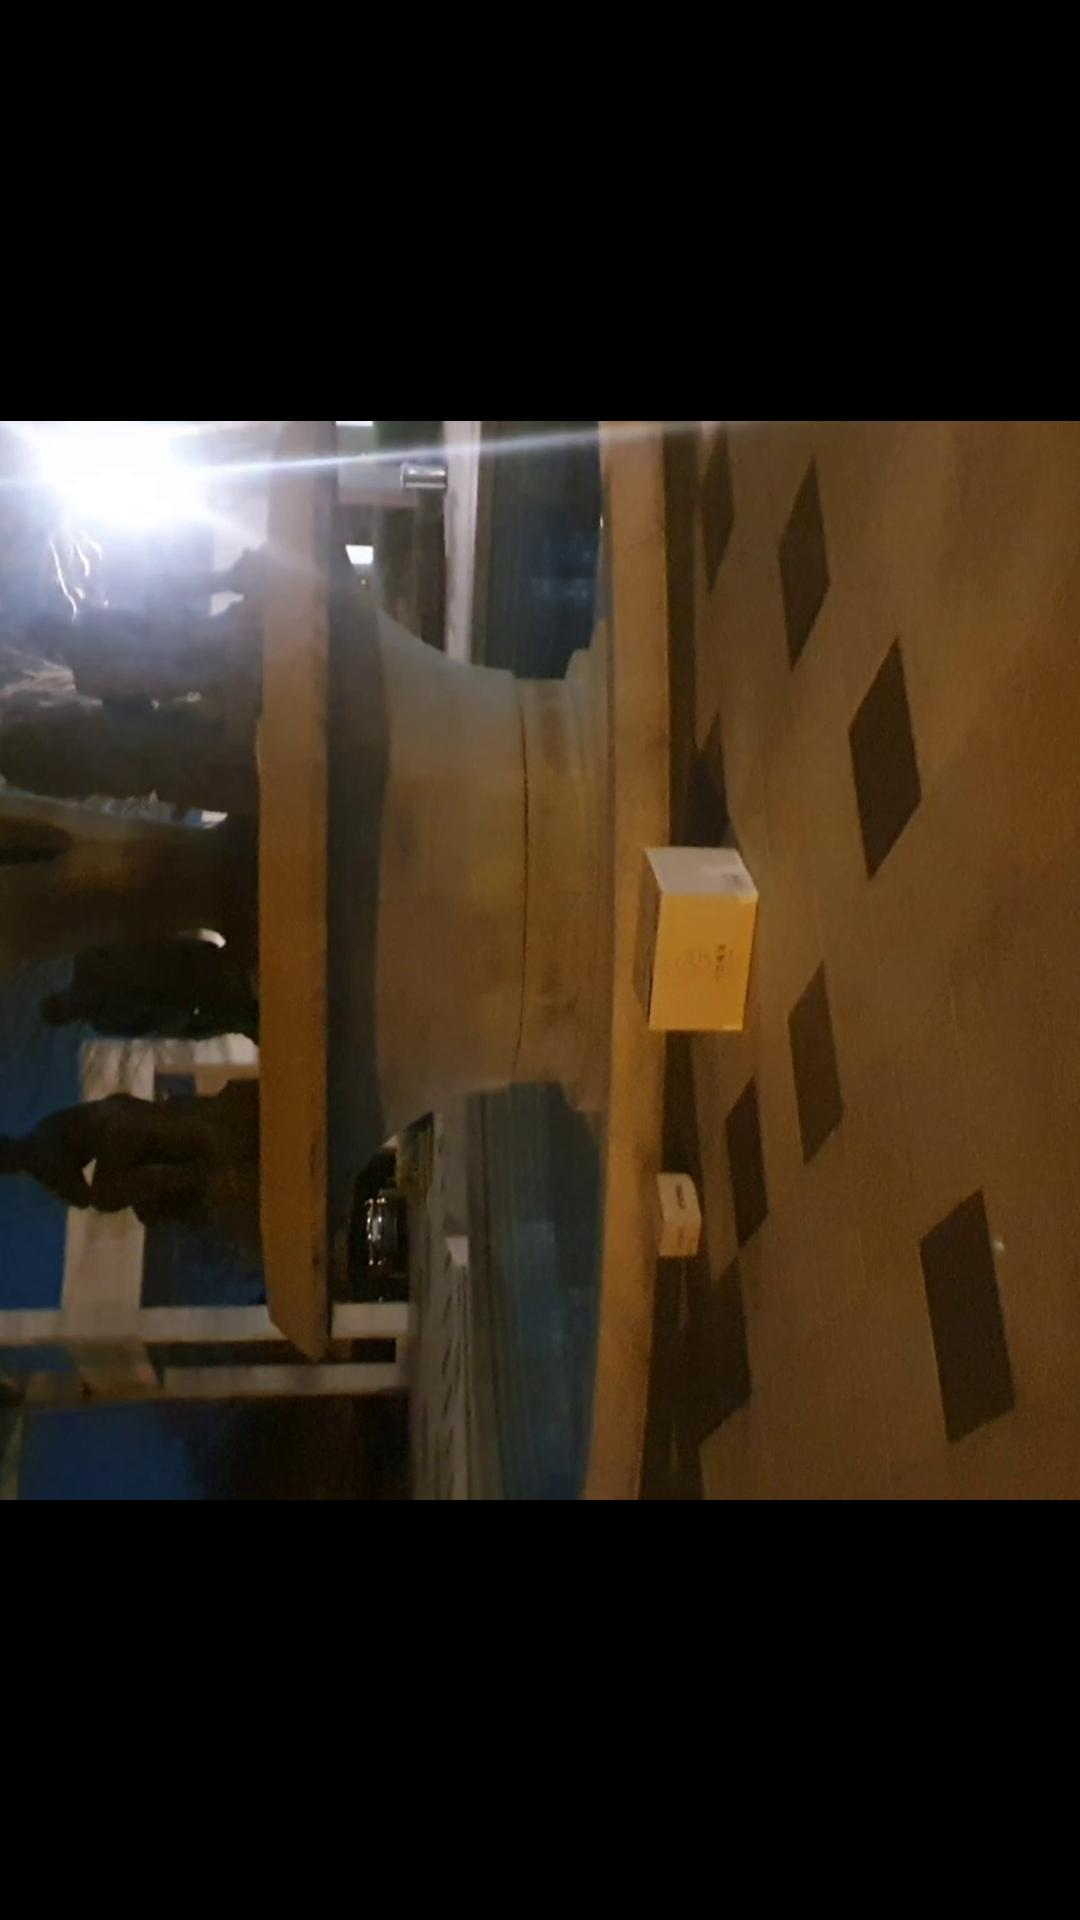Box: (628, 825, 764, 1047), (633, 1155, 703, 1265)
